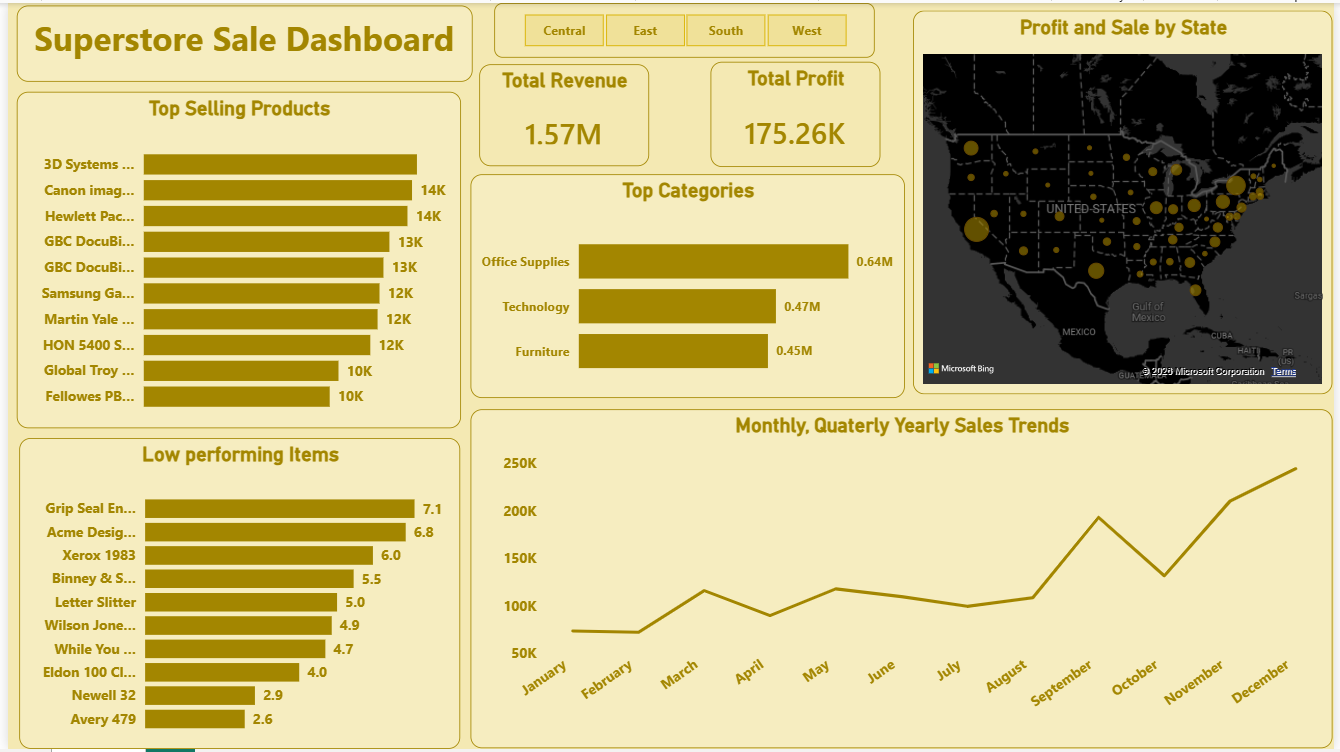

Layout of this report page (visuals, bound fields, positions):
{"tool":"powerbi","page":{"name":"Page 1","canvas":[1280,720],"ordinal":0},"visuals":[{"type":"lineChart","title":" Monthly, Quaterly Yearly Sales Trends","fields":{"Y":["Sum(SuperStore_Sales_Dataset.Sales)"],"Category":["SuperStore_Sales_Dataset.Order Date.Variation.Date Hierarchy.Year","SuperStore_Sales_Dataset.Order Date.Variation.Date Hierarchy.Quarter","SuperStore_Sales_Dataset.Order Date.Variation.Date Hierarchy.Month"]},"box":[446.6,392.5,832.3,327.4],"z":0},{"type":"clusteredBarChart","title":"Top Selling Products","fields":{"Y":["Sum(SuperStore_Sales_Dataset.Sales)"],"Category":["SuperStore_Sales_Dataset.Product Name"]},"box":[8.3,86,428.6,324.6],"z":1000},{"type":"clusteredBarChart","title":"Low performing Items","fields":{"Y":["Sum(SuperStore_Sales_Dataset.Sales)"],"Category":["SuperStore_Sales_Dataset.Product Name"]},"box":[11.1,420.3,425.8,299.6],"z":2000},{"type":"clusteredBarChart","title":"Top Categories ","fields":{"Y":["Sum(SuperStore_Sales_Dataset.Sales)"],"Category":["SuperStore_Sales_Dataset.Category"]},"box":[446.6,165.1,418.9,216.4],"z":3000},{"type":"textbox","box":[8.3,2.8,439.7,73.5],"z":4000},{"type":"slicer","fields":{"Values":["SuperStore_Sales_Dataset.Region"]},"box":[468.8,0,367.6,52.7],"z":5000},{"type":"map","title":"Profit and Sale by State","fields":{"Category":["SuperStore_Sales_Dataset.State"],"Size":["Sum(SuperStore_Sales_Dataset.Sales)"]},"box":[873.9,6.9,405,370.4],"z":6000},{"type":"cardVisual","title":"Total Revenue","fields":{"Data":["SuperStore_Sales_Dataset.Total Revenue"]},"box":[455,59.6,163.7,98.5],"z":7000},{"type":"cardVisual","title":"Total Profit","fields":{"Data":["SuperStore_Sales_Dataset.Total Profit"]},"box":[678.3,56.9,163.7,101.3],"z":8000}]}

Visuals, with their boxes in screenshot pixels (x1, y1, x2, y2), scaled from the page's 1280x720 canvas onto the 1340x752 screenshot:
" Monthly, Quaterly Yearly Sales Trends" lineChart: bbox=(468, 410, 1339, 751)
"Top Selling Products" clusteredBarChart: bbox=(9, 90, 457, 429)
"Low performing Items" clusteredBarChart: bbox=(12, 439, 457, 751)
"Top Categories " clusteredBarChart: bbox=(468, 172, 906, 398)
textbox: bbox=(9, 3, 469, 80)
slicer - SuperStore_Sales_Dataset.Region: bbox=(491, 0, 876, 55)
"Profit and Sale by State" map: bbox=(915, 7, 1339, 394)
"Total Revenue" cardVisual: bbox=(476, 62, 648, 165)
"Total Profit" cardVisual: bbox=(710, 59, 881, 165)
